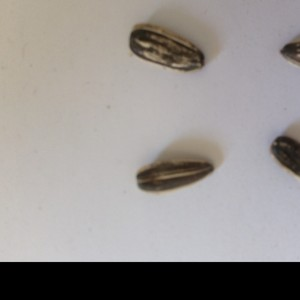girasol: (127, 21, 207, 75), (134, 158, 215, 195)
